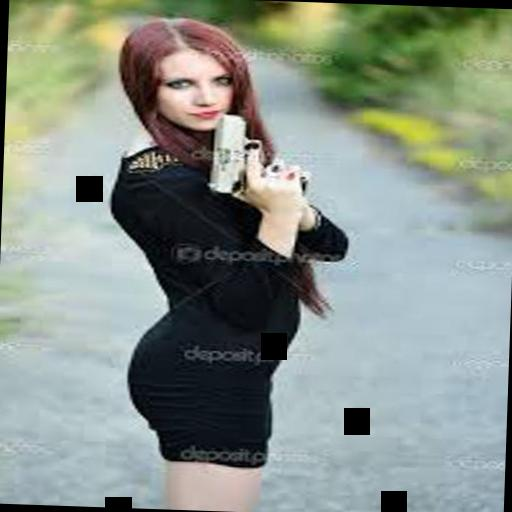Handgun: (199, 108, 308, 202)
